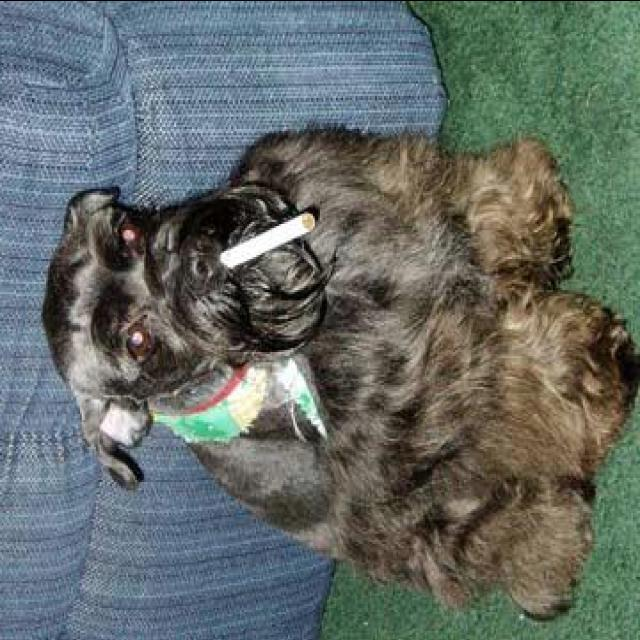standard_schnauzer: (43, 120, 633, 618)
